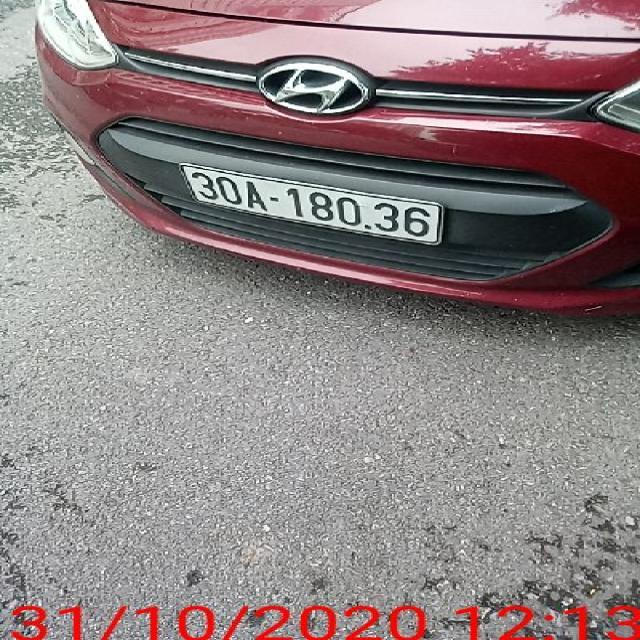bien_so_oto: (174, 161, 448, 246)
